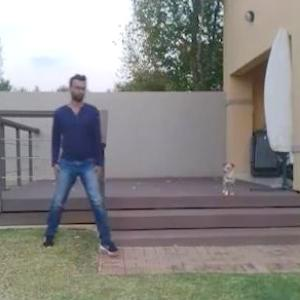follow: (46, 74, 98, 239)
